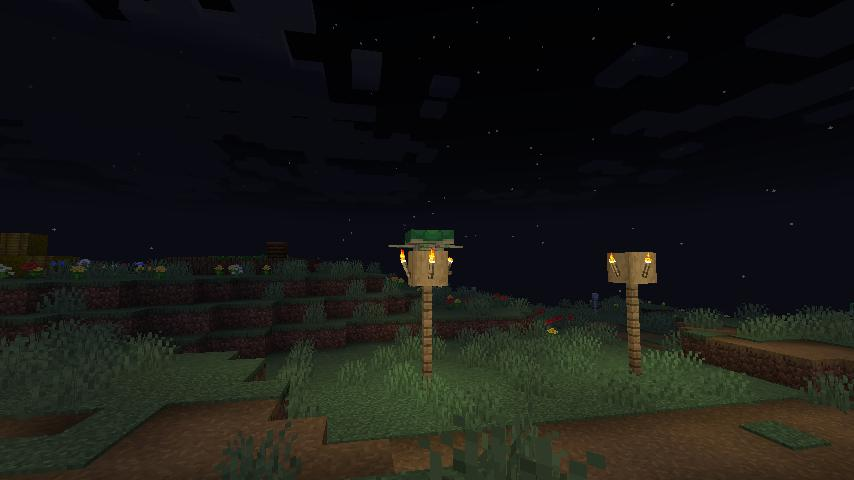turtle: (385, 223, 468, 254)
